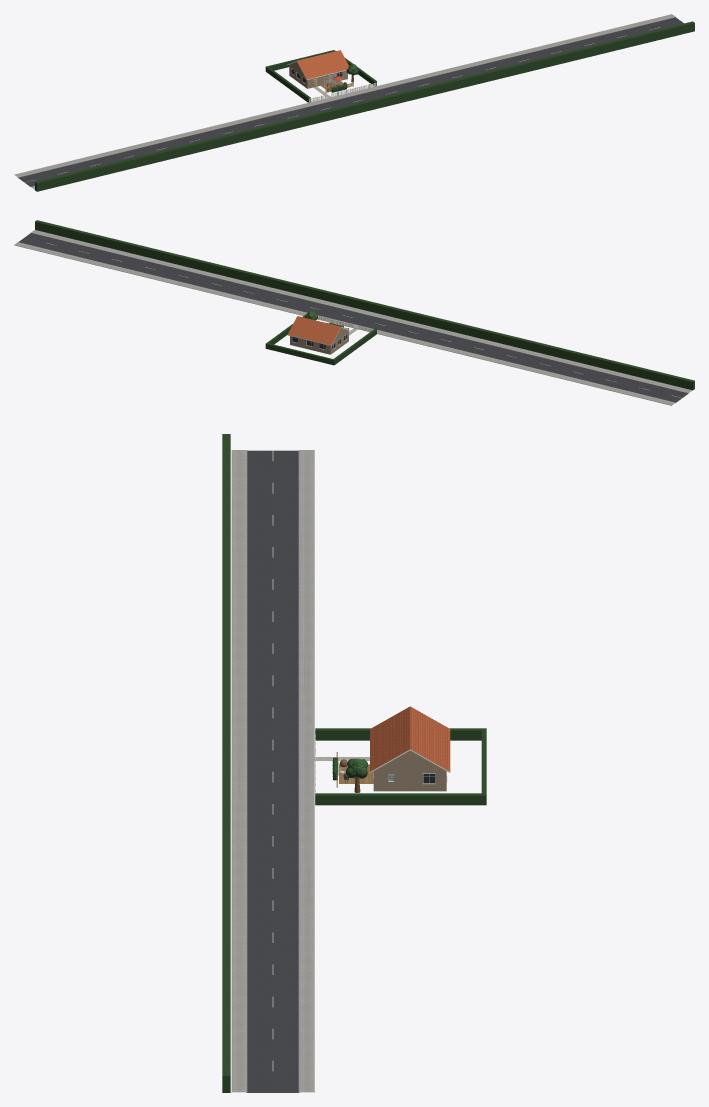
The model's file is house.glb.
The picture shows the model from 3 angles, top to bottom: view 1: azimuth 30°, elevation 25°; view 2: azimuth 150°, elevation 25°; view 3: azimuth 270°, elevation 25°; orthographic projection. The views are drawn at different scales.
Visible parts, largest first — view 1: street, roof, walls, furniture; view 2: street, roof, walls; view 3: street, roof, walls.
Part boxes in pixels (x1,y1,x2,y2): street: [14, 14, 694, 191]; roof: [287, 50, 348, 79]; walls: [289, 65, 353, 92]; furniture: [326, 64, 358, 92]; street: [14, 220, 694, 405]; roof: [287, 316, 350, 345]; walls: [290, 327, 348, 354]; street: [222, 434, 486, 1092]; roof: [370, 706, 450, 772]; walls: [336, 752, 447, 791].
Size of the model in its own units: 180 by 5.97 by 31.3.
Materials: 400 (19 with a texture image).
